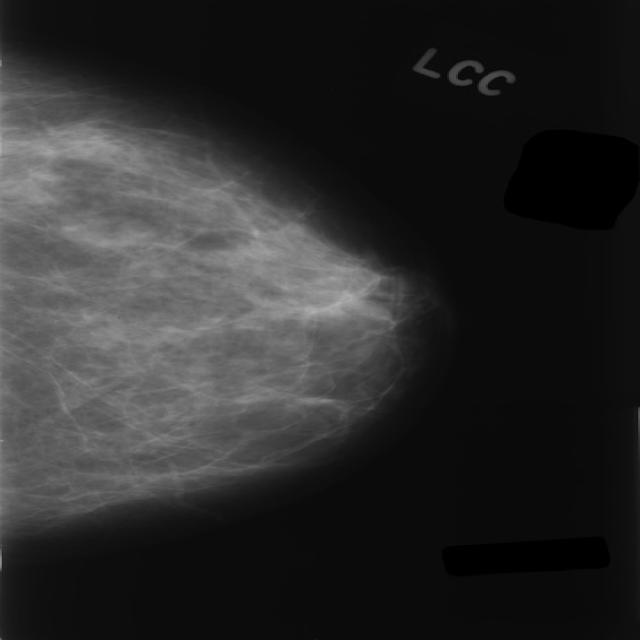tumour: (55, 208, 152, 249)
